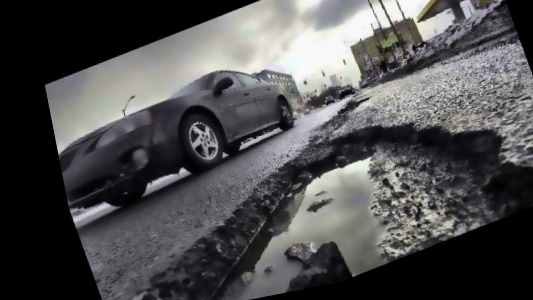pothole: (62, 55, 533, 300)
